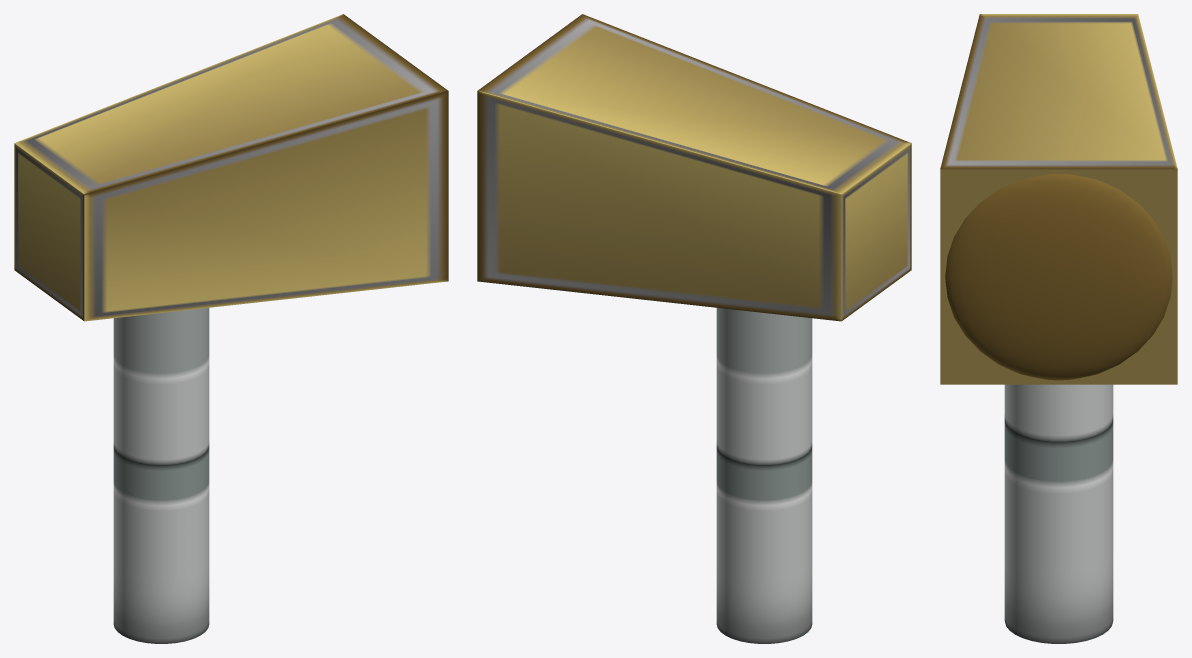
File: apolloj3.obj
3 renders of one model, left to right at view 1: azimuth 30°, elevation 25°; view 2: azimuth 150°, elevation 25°; view 3: azimuth 270°, elevation 25°, orthographic. The views are drawn at different scales.
Visible parts, largest first — view 1: ColobotMesh_1.001_ColobotMesh_.001, ColobotMesh_1_ColobotMesh_; view 2: ColobotMesh_1.001_ColobotMesh_.001, ColobotMesh_1_ColobotMesh_; view 3: ColobotMesh_1.001_ColobotMesh_.001, Sphere, ColobotMesh_1_ColobotMesh_.
Part boxes in pixels (x1,y1,x2,y2): ColobotMesh_1.001_ColobotMesh_.001: (14,14,448,321); ColobotMesh_1_ColobotMesh_: (113,308,209,643); ColobotMesh_1.001_ColobotMesh_.001: (477,14,911,321); ColobotMesh_1_ColobotMesh_: (716,308,812,643); ColobotMesh_1.001_ColobotMesh_.001: (940,14,1177,384); Sphere: (945,174,1172,380); ColobotMesh_1_ColobotMesh_: (1004,384,1113,643).
Size of the model in its own units: 2.08 by 2.83 by 1.05.
